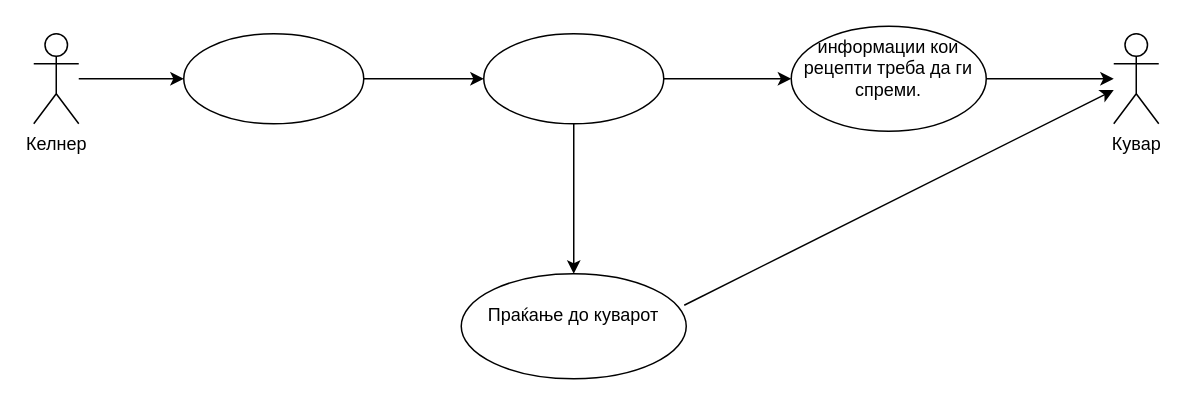
Some shapes in this 1187 by 405 pixel diagram are drawn without their labels. The shapes that lost their labels are listed below. From the top down, each one's centre as x and y in pixels, then its label:
(x=273, y=78): Прима нарачка
(x=573, y=78): внес на нарачката во системот
